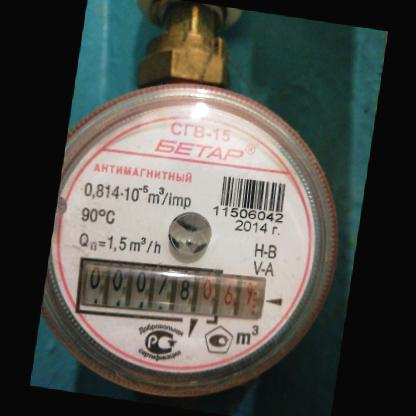digital_screen: (70, 251, 202, 327)
